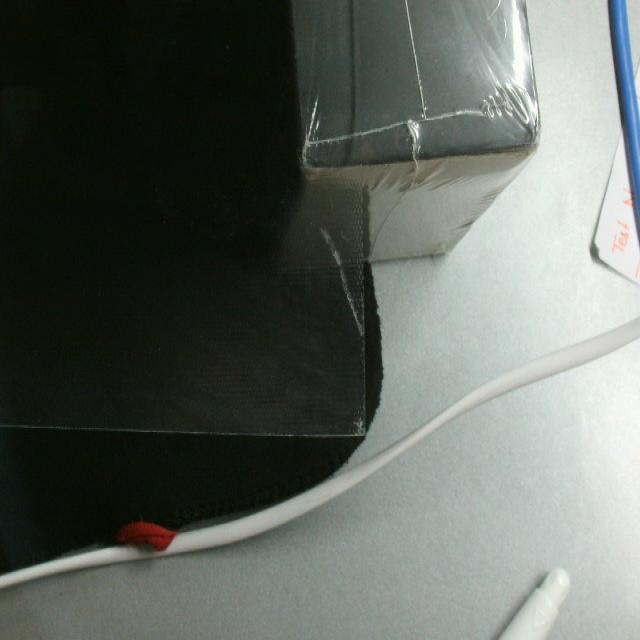edge_chip: (348, 408, 372, 442)
scratch: (316, 216, 372, 342)
